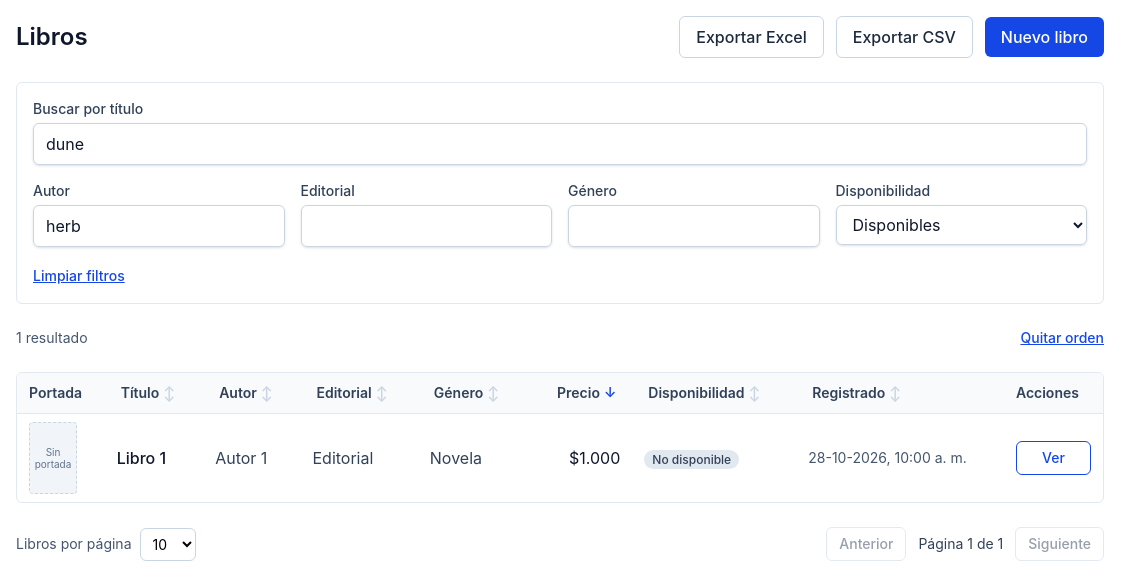
BooksPage › filters › clears every filter and keeps the order
Expected: the text "1 resultado" is shown, top-left (16, 328), bottom-right (88, 348)
Click the button "Limpiar filtros" at (79, 276), box top-left (33, 266), bottom-right (125, 286)
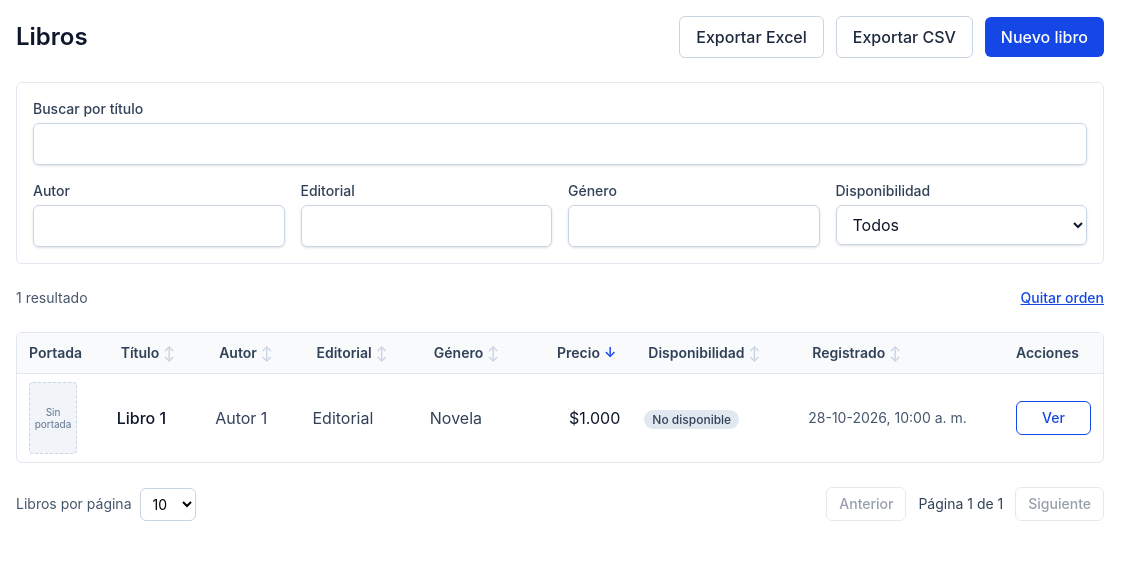
Now the search field labelled "Buscar por título" is empty, box top-left (33, 123), bottom-right (1087, 165)
Now the field labelled "Autor" is empty, box top-left (33, 205), bottom-right (284, 247)
Now the button "Limpiar filtros" is gone
